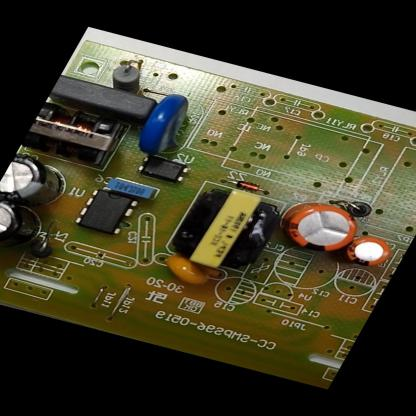Cap1: (266, 192, 373, 266)
Cap2: (333, 228, 408, 278)
Cap3: (0, 146, 85, 217)
Cap4: (0, 191, 66, 263)
MOSFET: (69, 180, 147, 242)
Mov: (122, 86, 218, 164)
Resistor: (100, 57, 161, 101)
Transformer: (159, 176, 296, 284), (18, 98, 134, 172)
